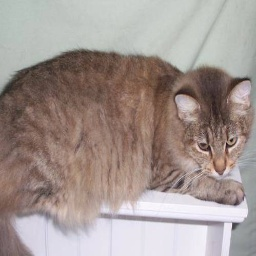cat: (1, 41, 252, 222)
